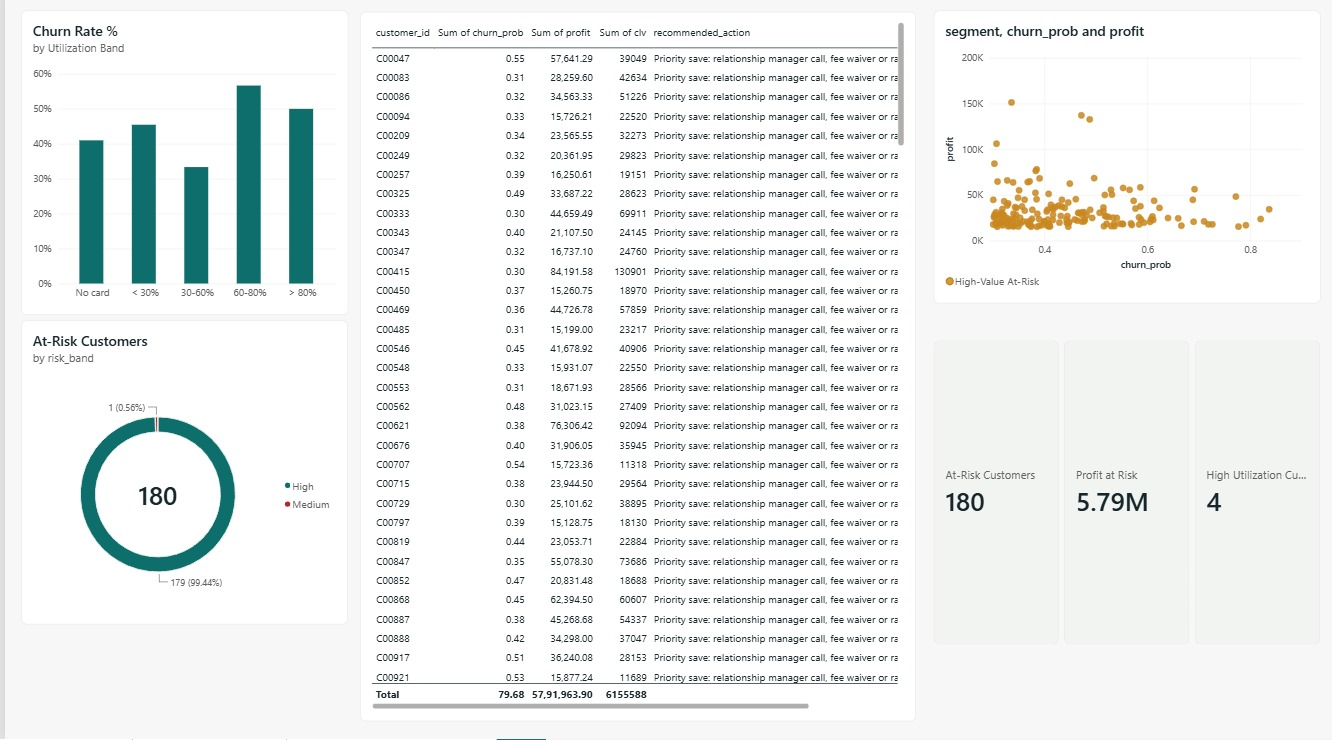

The page's visual inventory and layout, read from the dashboard file:
{"tool":"powerbi","page":{"name":"Churn and Risk","canvas":[1920,1080],"ordinal":1},"visuals":[{"type":"clusteredColumnChart","fields":{"Category":["dim_customer.Utilization Band"],"Y":["_Measures.Churn Rate %"]},"box":[22.6,24.7,473.4,440.5],"z":0},{"type":"donutChart","fields":{"Category":["dim_customer.risk_band"],"Y":["_Measures.At-Risk Customers"]},"box":[23,475,473,440],"z":1000},{"type":"scatterChart","fields":{"Series":["dim_customer.segment"],"X":["dim_customer.churn_prob"],"Y":["dim_customer.profit"]},"box":[1344.1,24.7,559.9,424],"z":2000},{"type":"tableEx","fields":{"Values":["dim_customer.customer_id","Sum(dim_customer.churn_prob)","Sum(dim_customer.profit)","Sum(dim_customer.clv)","dim_customer.recommended_action"]},"box":[514.6,26.8,804.8,1027.1],"z":3000},{"type":"cardVisual","fields":{"Data":["_Measures.At-Risk Customers","_Measures.Profit at Risk","_Measures.High Utilization Customers"]},"box":[1344.1,502.2,560,440],"z":3001}]}

Visuals, with their boxes in screenshot pixels (x1, y1, x2, y2), scaled from the page's 1920x1080 canvas onto the 1332x740 screenshot:
clusteredColumnChart - dim_customer.Utilization Band x _Measures.Churn Rate %: 16 17 344 319
donutChart - dim_customer.risk_band x _Measures.At-Risk Customers: 16 325 344 627
scatterChart - dim_customer.segment x dim_customer.churn_prob: 932 17 1321 307
tableEx - dim_customer.customer_id x Sum(dim_customer.churn_prob): 357 18 915 722
cardVisual - _Measures.At-Risk Customers x _Measures.Profit at Risk: 932 344 1321 646
